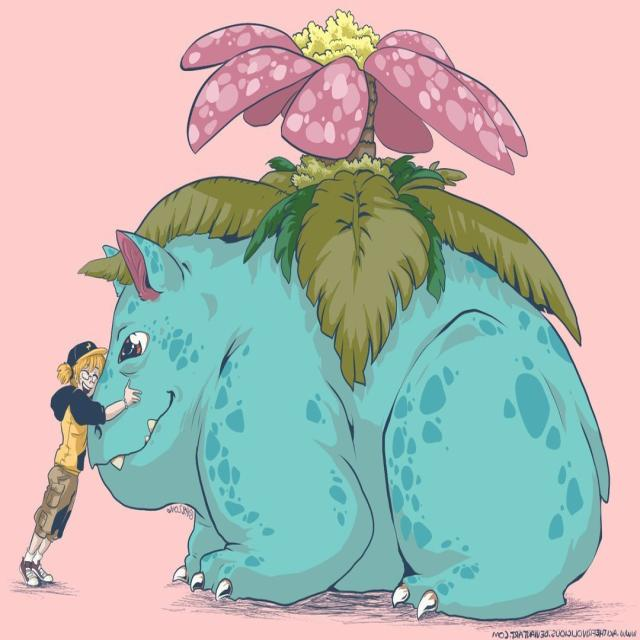Venusaur: (96, 18, 574, 611)
